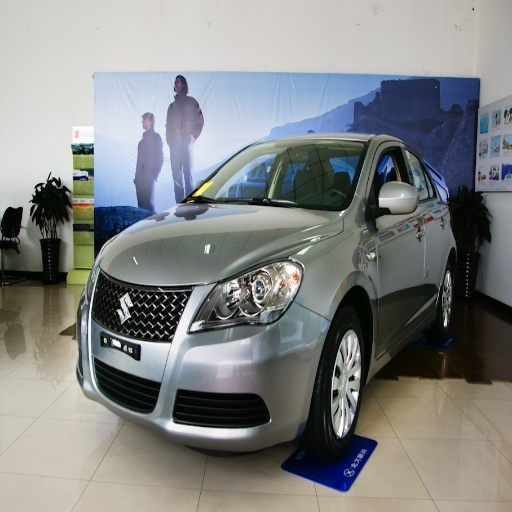front_bumper: (81, 272, 330, 451)
front_glass: (192, 145, 366, 210)
front_left_door: (367, 141, 423, 344)
